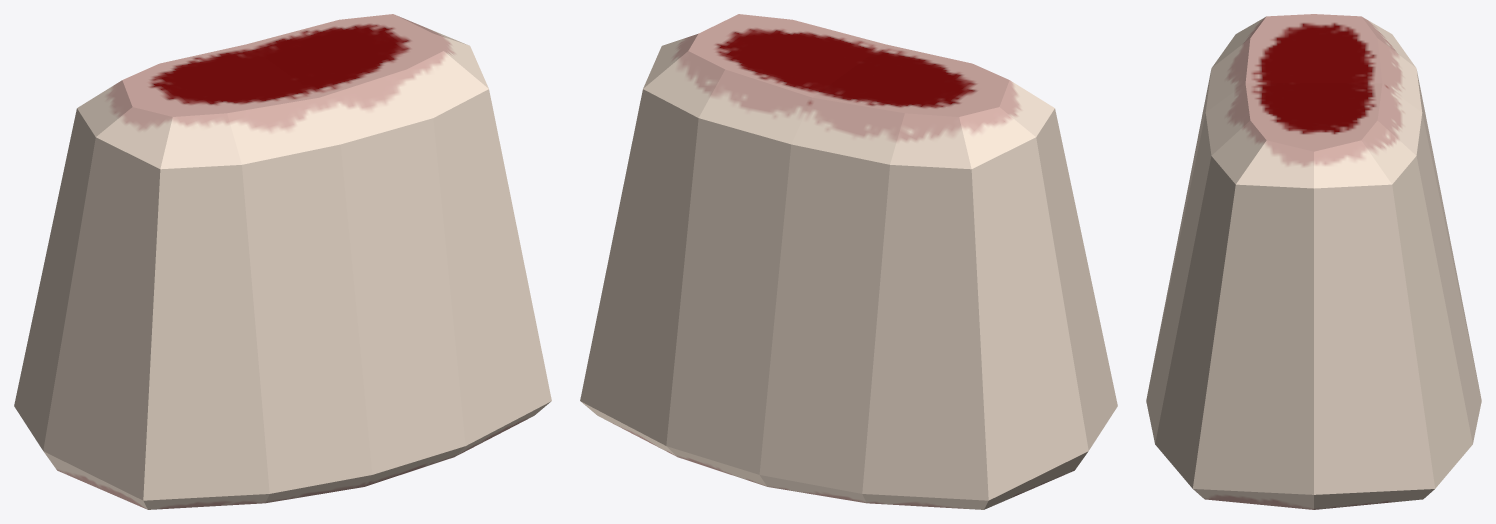
The model's file is lemkaula.fbx.
3 views of the same model, side by side, from view 1: azimuth 30°, elevation 25°; view 2: azimuth 150°, elevation 25°; view 3: azimuth 270°, elevation 25° (orthographic). The views are drawn at different scales.
Parts seen in each view (by area): view 1: kaula.001; view 2: kaula.001; view 3: kaula.001.
Boxes of the visible parts, x1,y1,x2,y2 form: kaula.001: (14,14,551,509); kaula.001: (580,14,1117,509); kaula.001: (1146,14,1481,509).
Bounding box in the file's own units: 29.5 × 21.27 × 19.07.
